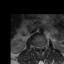CCS_stenosis: (39, 45, 41, 51)
LFS_normal: (42, 45, 44, 51)
LLS_normal: (40, 45, 42, 51)
RFS_normal: (35, 44, 37, 51)
RLS_normal: (37, 45, 39, 50)
